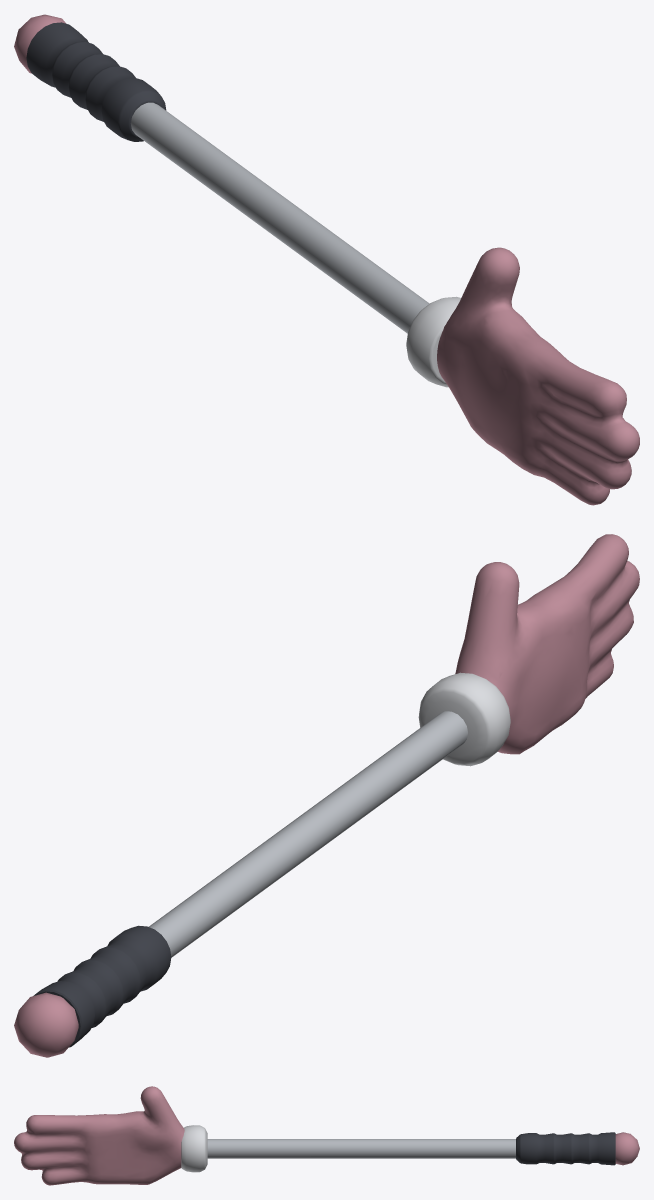
The model's file is w_slapper.glb.
3 renders of one model, top to bottom at view 1: azimuth 30°, elevation 25°; view 2: azimuth 150°, elevation 25°; view 3: azimuth 270°, elevation 25°, orthographic. The views are drawn at different scales.
Visible parts, largest first — view 1: hand_wzB__hand__pb98895, stick_wzA__stick__pb4b8be, grip_wzA__grip__p3d4048, hand_wzN__cuff__pd3d5d9, cap_wzN__hand__pb98895; view 2: hand_wzB__hand__pb98895, stick_wzA__stick__pb4b8be, grip_wzA__grip__p3d4048, hand_wzN__cuff__pd3d5d9, cap_wzN__hand__pb98895; view 3: hand_wzB__hand__pb98895, stick_wzA__stick__pb4b8be, grip_wzA__grip__p3d4048, hand_wzN__cuff__pd3d5d9, cap_wzN__hand__pb98895.
Boxes of the visible parts, x1,y1,x2,y2 form: hand_wzB__hand__pb98895: (437, 247, 639, 505); stick_wzA__stick__pb4b8be: (130, 102, 429, 333); grip_wzA__grip__p3d4048: (26, 22, 166, 141); hand_wzN__cuff__pd3d5d9: (406, 296, 460, 387); cap_wzN__hand__pb98895: (14, 14, 65, 73); hand_wzB__hand__pb98895: (455, 534, 639, 754); stick_wzA__stick__pb4b8be: (149, 711, 467, 957); grip_wzA__grip__p3d4048: (33, 925, 171, 1047); hand_wzN__cuff__pd3d5d9: (418, 672, 510, 766); cap_wzN__hand__pb98895: (14, 992, 78, 1057); hand_wzB__hand__pb98895: (14, 1086, 184, 1185); stick_wzA__stick__pb4b8be: (207, 1139, 515, 1158); grip_wzA__grip__p3d4048: (516, 1132, 615, 1165); hand_wzN__cuff__pd3d5d9: (181, 1125, 207, 1172); cap_wzN__hand__pb98895: (615, 1132, 639, 1165).
Bounding box in the file's own units: 0.065 × 0.1471 × 0.8529.
